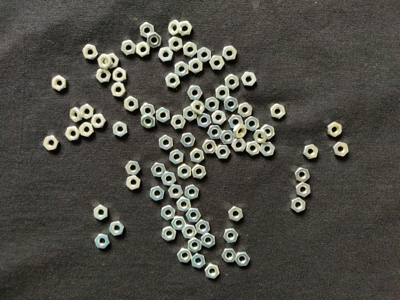nut: (82, 44, 99, 60), (43, 135, 59, 151), (95, 233, 110, 250), (147, 32, 162, 49), (52, 76, 67, 92), (80, 104, 95, 120), (125, 161, 141, 176), (113, 122, 128, 138), (98, 54, 113, 70), (112, 67, 127, 83), (121, 40, 136, 56), (124, 97, 139, 113), (156, 107, 171, 123), (151, 163, 167, 178), (161, 172, 177, 187), (168, 185, 184, 200), (161, 205, 176, 221), (162, 226, 177, 242), (171, 216, 187, 231), (196, 219, 211, 235), (177, 248, 193, 263), (229, 206, 244, 222), (166, 73, 181, 89), (183, 42, 198, 58), (197, 113, 212, 129), (222, 46, 238, 61), (225, 74, 240, 90), (238, 102, 253, 118), (246, 141, 261, 157), (271, 104, 286, 120), (333, 142, 349, 157), (140, 22, 154, 39), (183, 106, 197, 123), (110, 221, 125, 236), (91, 114, 106, 129), (111, 83, 126, 98), (150, 186, 165, 201), (158, 47, 173, 62), (192, 165, 207, 180), (186, 208, 201, 223), (182, 225, 197, 240), (191, 254, 206, 269), (205, 265, 220, 280), (224, 229, 239, 244), (171, 115, 186, 130), (181, 133, 196, 148), (190, 149, 205, 164), (168, 37, 183, 52), (212, 110, 227, 125), (210, 56, 225, 71), (224, 97, 239, 112), (242, 72, 257, 87), (229, 114, 244, 129), (245, 117, 260, 132), (291, 198, 306, 213), (296, 183, 311, 198), (295, 168, 310, 183), (94, 205, 108, 221), (136, 41, 150, 57), (159, 135, 173, 151), (178, 164, 192, 180), (188, 237, 202, 253), (202, 233, 216, 249), (169, 20, 183, 36), (175, 62, 189, 78), (189, 58, 203, 74), (198, 47, 212, 63), (187, 86, 203, 100), (216, 85, 230, 101), (261, 124, 275, 140), (303, 145, 319, 159), (79, 123, 94, 137), (126, 176, 141, 190), (96, 69, 111, 83), (105, 53, 119, 68), (141, 114, 155, 129), (185, 185, 199, 200), (177, 197, 191, 212), (222, 249, 237, 263), (236, 252, 250, 267), (170, 150, 184, 165), (191, 100, 205, 115), (203, 140, 218, 154), (208, 126, 223, 140), (220, 131, 235, 145), (206, 97, 220, 112), (232, 138, 247, 152), (233, 124, 247, 139), (253, 130, 268, 144), (260, 143, 275, 157), (328, 122, 342, 137), (140, 104, 156, 117), (66, 127, 80, 141), (70, 108, 83, 123), (180, 21, 193, 36), (216, 146, 231, 159)
